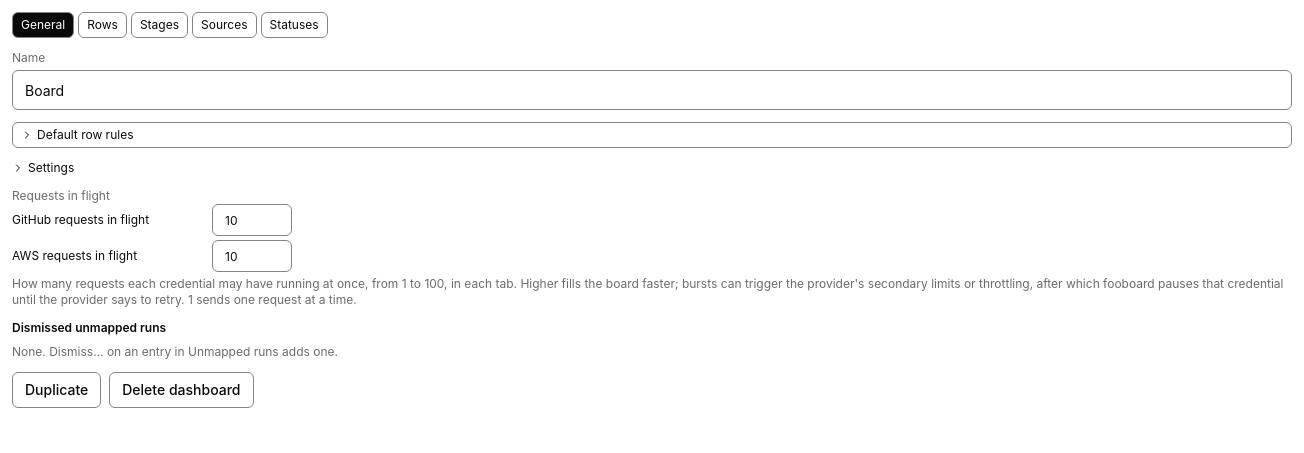
Test: DashboardEditor save errors › refuses an edit the schema rejects, saying why
The image size is (1304, 453).
Replace the text in the field named "Dashboard name" with "Platform". click: (652, 90)
box: x1=12 y1=70 x2=1292 y2=110
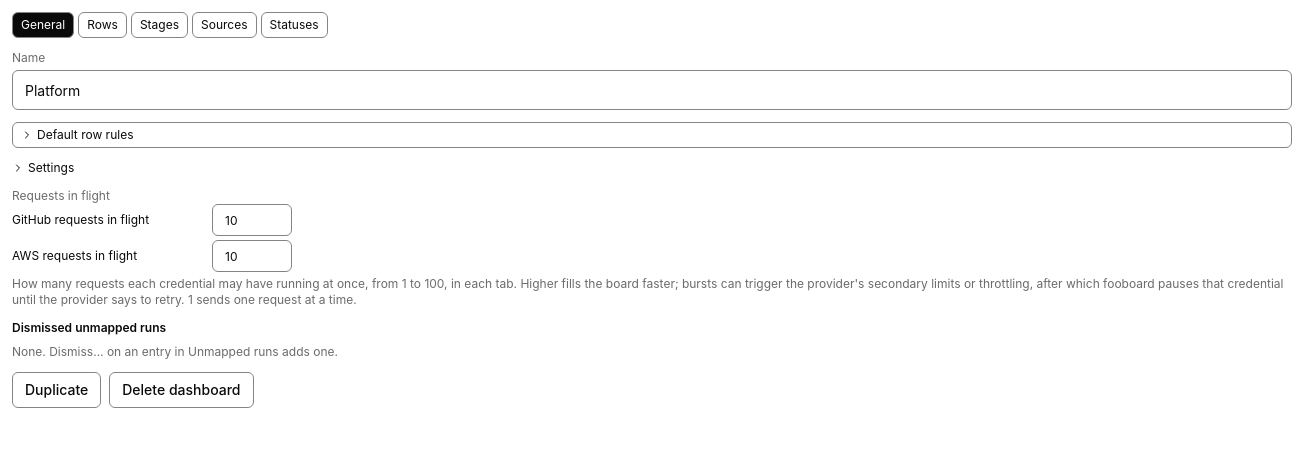
Leave the field named "Dashboard name", box x1=12 y1=70 x2=1292 y2=110
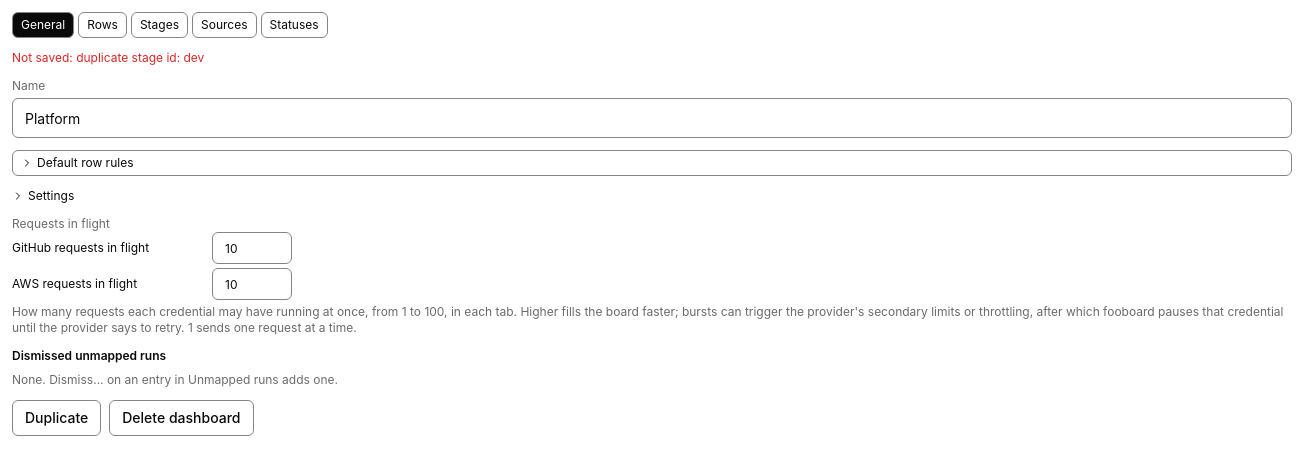
Result: the message reads "Not saved: duplicate stage id: dev" at x1=12 y1=50 x2=204 y2=65
